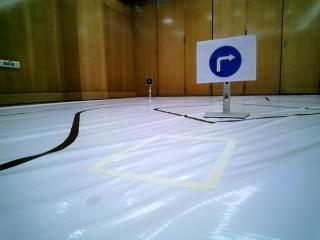right: (200, 41, 256, 83)
